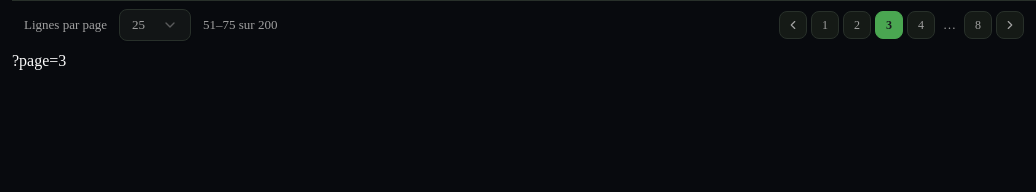
ListPager › returns to the first page when the size changes
Click the dropdown named "Lignes par page".
click(155, 25)  # box left=119, top=9, right=191, bottom=41
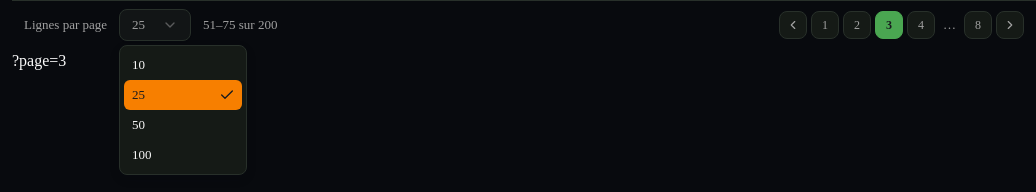
Click the option "50".
click(138, 124)  # box left=132, top=117, right=145, bottom=132
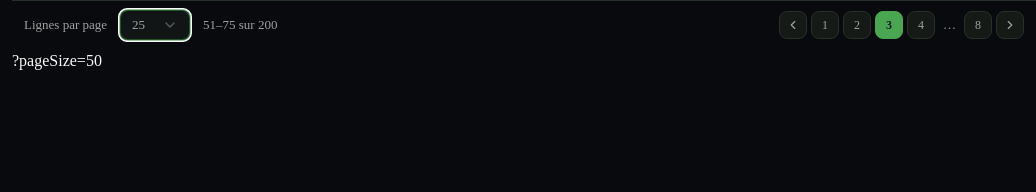
Expected: the text with test id "location" reads "?pageSize=50", left=12, top=52, right=102, bottom=69
